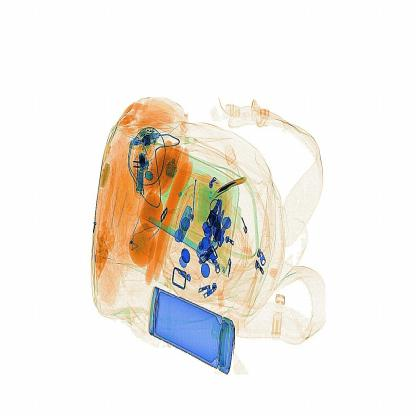wrench: (204, 165, 258, 203)
